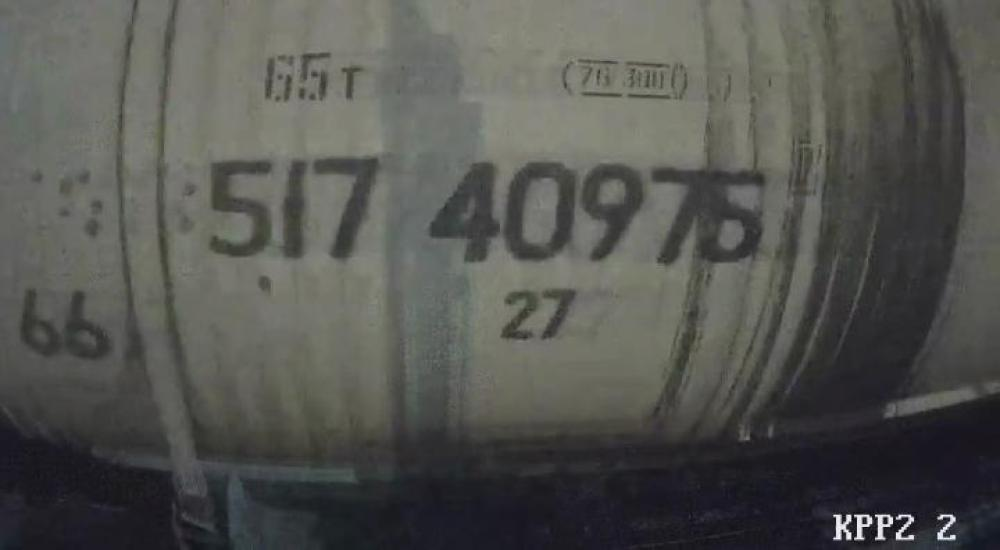Wagon-number: (197, 148, 769, 267)
